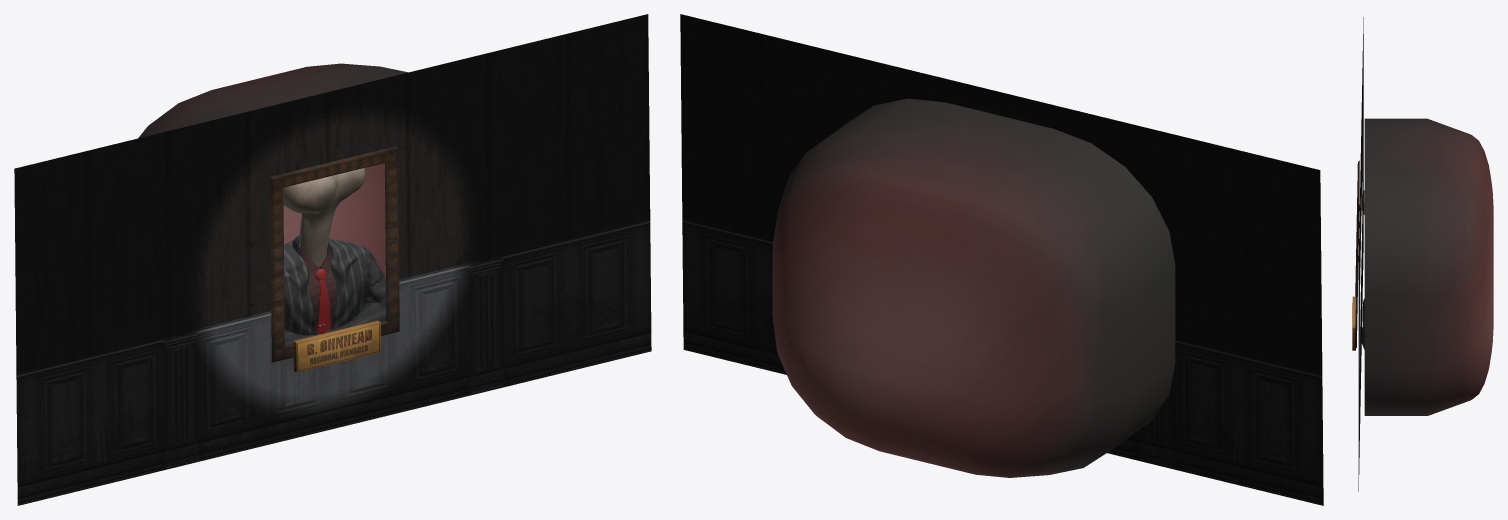
File: bonehead.fbx
3 views of the same model, side by side, from view 1: azimuth 30°, elevation 25°; view 2: azimuth 150°, elevation 25°; view 3: azimuth 270°, elevation 25° (orthographic). The views are drawn at different scales.
Visible parts, largest first — view 1: Wall, Bg, Frame, Suit, Bone, Plaque, Shirt; view 2: Bg, Wall; view 3: Bg, Wall, Frame, Plaque.
Boxes of the visible parts, bbox=[...] form: Wall: bbox=[14, 14, 651, 505]; Bg: bbox=[138, 63, 408, 279]; Frame: bbox=[270, 145, 399, 362]; Suit: bbox=[284, 235, 386, 345]; Bone: bbox=[283, 168, 364, 268]; Plaque: bbox=[294, 320, 380, 372]; Shirt: bbox=[293, 236, 336, 333]; Bg: bbox=[772, 98, 1175, 477]; Wall: bbox=[680, 14, 1323, 505]; Bg: bbox=[1364, 118, 1493, 415]; Wall: bbox=[1358, 17, 1363, 491]; Frame: bbox=[1355, 160, 1359, 347]; Plaque: bbox=[1352, 296, 1355, 350].
Size of the model in its own units: 2952 by 1490 by 748.
